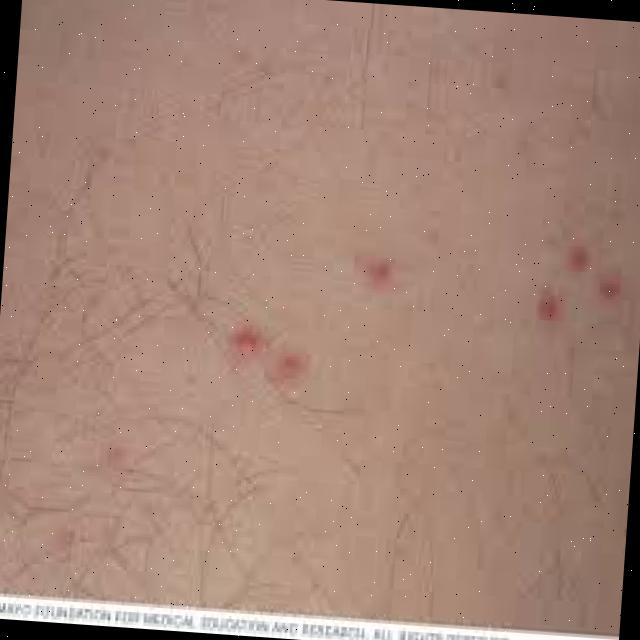kan emici bocekler: (260, 351, 318, 400), (355, 254, 408, 295), (227, 323, 263, 368), (105, 439, 147, 476), (533, 288, 567, 322), (48, 521, 73, 564), (593, 269, 625, 299), (566, 243, 593, 274)
